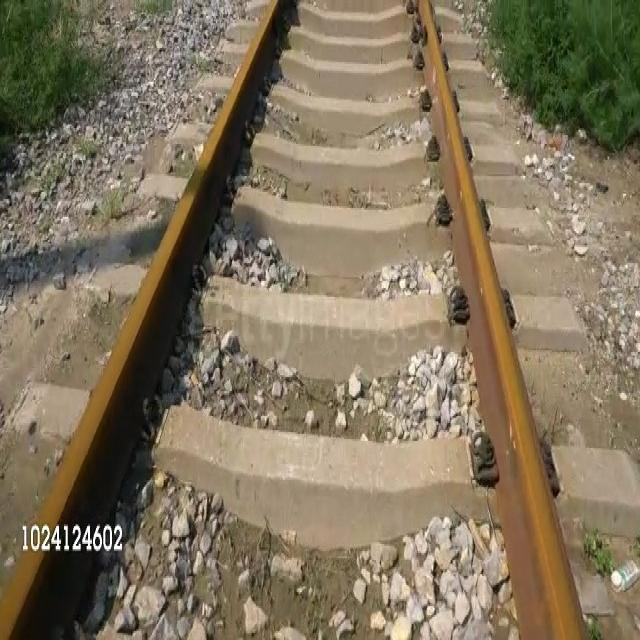Plant: (488, 0, 639, 151), (0, 0, 111, 163)
